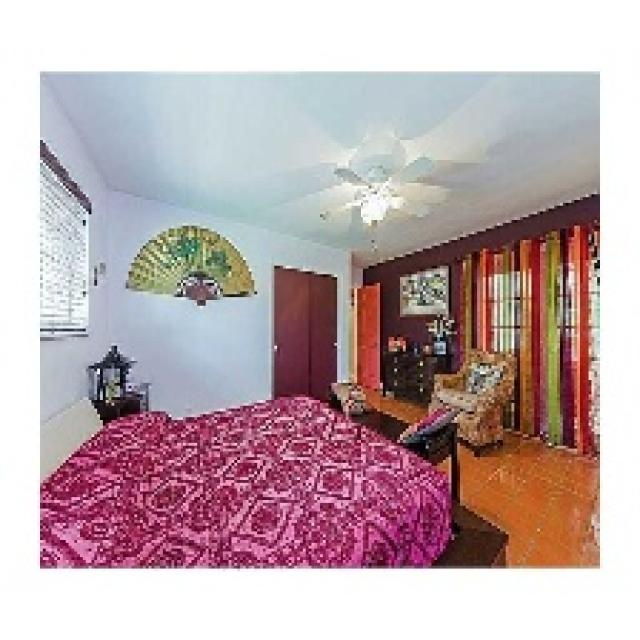Bed: (37, 391, 457, 566)
